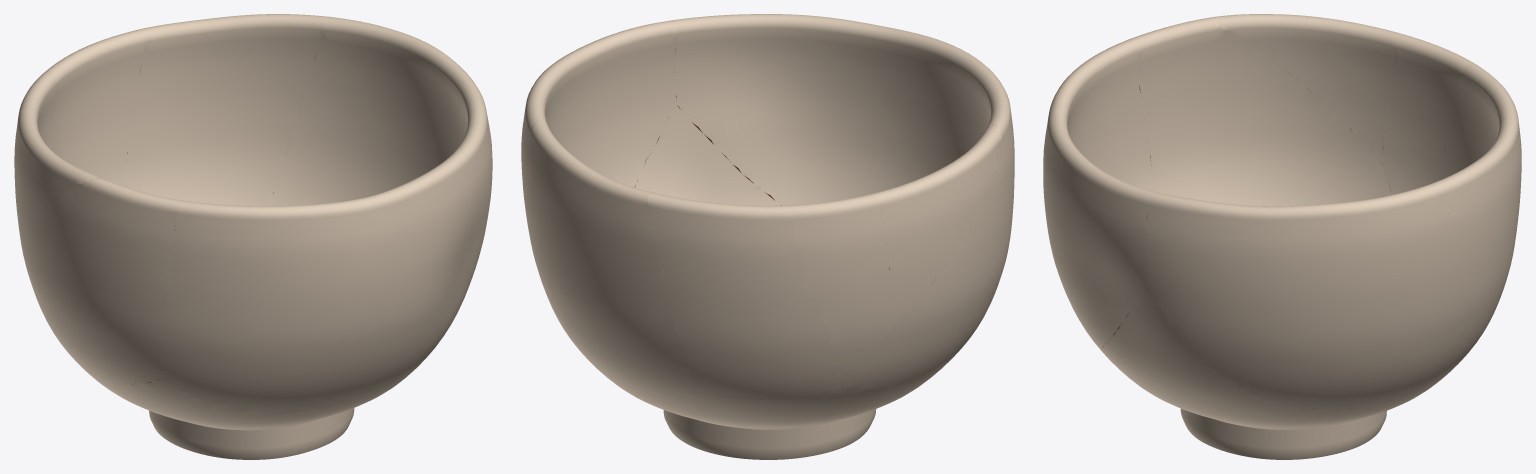
The model's file is Z4_drop.glb.
3 renders of one model, left to right at view 1: azimuth 30°, elevation 25°; view 2: azimuth 150°, elevation 25°; view 3: azimuth 270°, elevation 25°, orthographic.
Visible parts, largest first — view 1: shard_06, shard_05, shard_07, shard_04, shard_00, shard_03, shard_01, shard_02; view 2: shard_06, shard_03, shard_05, shard_00, shard_07, shard_04, shard_02, shard_01; view 3: shard_07, shard_04, shard_06, shard_00, shard_01, shard_05, shard_02, shard_03.
Part boxes in pixels (<box>): shard_06: <box>161,121,491,413</box>; shard_05: <box>125,14,327,206</box>; shard_07: <box>270,16,492,226</box>; shard_04: <box>20,178,181,384</box>; shard_00: <box>82,215,487,459</box>; shard_03: <box>44,29,146,186</box>; shard_01: <box>14,108,102,239</box>; shard_02: <box>15,71,57,146</box>; shard_06: <box>671,14,1003,205</box>; shard_03: <box>647,192,843,400</box>; shard_05: <box>529,123,701,394</box>; shard_00: <box>590,104,954,459</box>; shard_07: <box>521,20,676,362</box>; shard_04: <box>845,85,1014,389</box>; shard_02: <box>784,194,894,386</box>; shard_01: <box>872,124,1001,323</box>; shard_07: <box>1146,184,1463,410</box>; shard_04: <box>1128,16,1391,206</box>; shard_06: <box>1043,39,1157,348</box>; shard_00: <box>1100,288,1459,459</box>; shard_01: <box>1214,14,1405,160</box>; shard_05: <box>1430,118,1521,368</box>; shard_02: <box>1380,35,1473,194</box>; shard_03: <box>1431,63,1520,183</box>.
Size of the model in its own units: 0.1228 by 0.0871 by 0.122.
